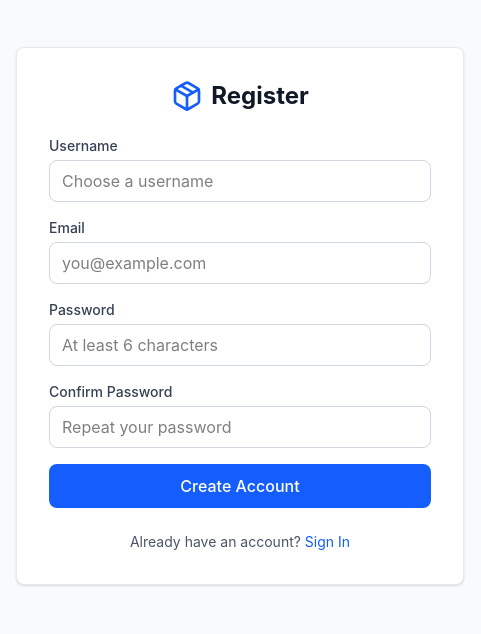
Scenario: RegisterPage › shows error when passwords do not match
Type "testuser" into the field with test id "register-username".
click(240, 181); type("testuser")  # box [49,160,431,202]
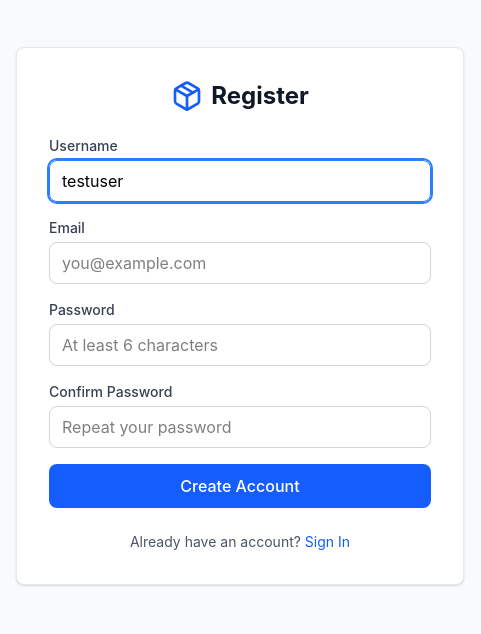
Type "test@test.com" into the field with test id "register-email".
click(240, 263); type("test@test.com")  # box [49,242,431,284]
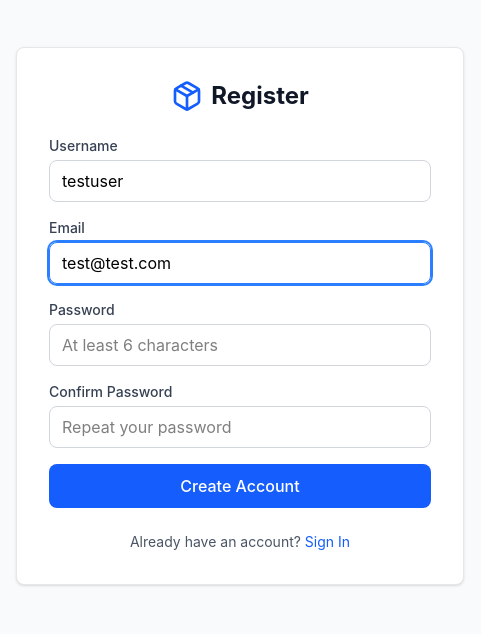
Type "password123" into the password field with test id "register-password".
click(240, 345); type("password123")  # box [49,324,431,366]
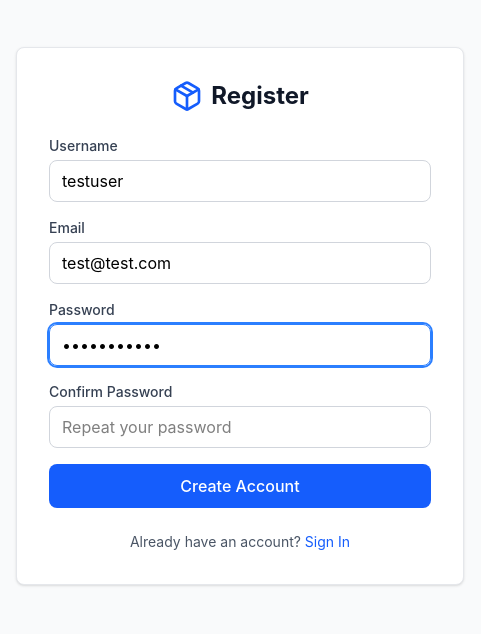
Type "different" into the password field with test id "register-confirm-password".
click(240, 427); type("different")  # box [49,406,431,448]
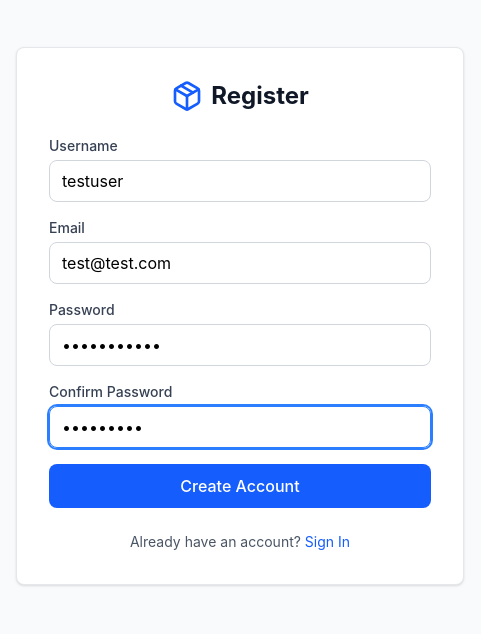
Click the button with test id "register-submit".
click(240, 486)  # box [49,464,431,508]
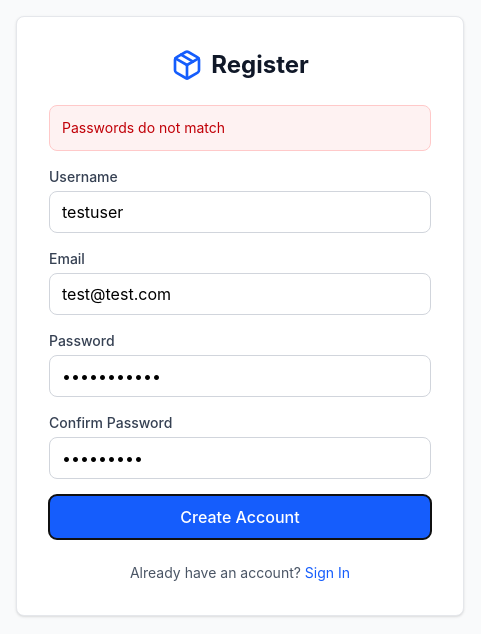
Check: the text "Passwords do not match" is shown, box [49,105,431,151]
